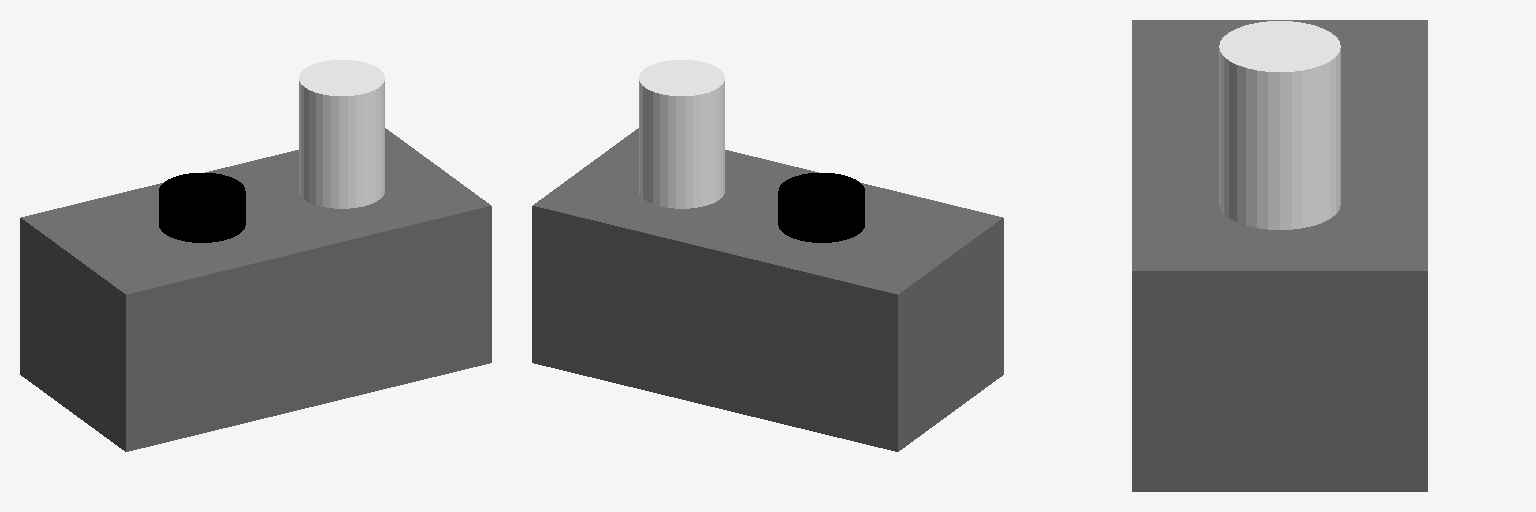
robot.urdf — myroobt:
<?xml version="1.0"?>

<robot name="myroobt">
	<link name="base_link">
		<visual>
			<geometry>
				<box size="0.34 0.17 0.14"/>
			</geometry>
			<material name="grey">
				<color rgba="0.5 0.5 0.5 0.9"/>
			</material>
		</visual>
	</link>
	
	<link name="laser">
		<visual>
			<geometry>
				<cylinder length="0.03" radius="0.035"/>
			</geometry>
			<material name="black">
				<color rgba="0 0 0 1"/>
			</material>
			<origin xyz="0 0 0" rpy="0 0 0 "/>
		</visual>
	</link>
	<joint name="laser_joint" type="fixed">
		<parent link="base_link"/>
		<child link="laser"/>
		<origin rpy="0 0 0" xyz="-0.05 0 0.085"/>
		<axis xyz="0 0 0"/>
	</joint>
	
	<link name="camera">
		<visual>
			<geometry>
				<cylinder length="0.1" radius="0.035"/>
			</geometry>
			<material name="white">
				<color rgba="1 1 1 1"/>
			</material>
			<origin xyz="0 0 0" rpy="0 0 0 "/>
		</visual>
	</link>
	<joint name="camera_joint" type="fixed">
		<parent link="base_link"/>
		<child link="camera"/>
		<origin rpy="0 0 0" xyz="0.08 0 0.12"/>
		<axis xyz="0 0 0"/>
	</joint>
	
</robot>

--- What the picture shows (computed from the rendered views, not written in the file) ---
The picture shows the robot from 3 angles, left to right: view 1: azimuth 30°, elevation 25°; view 2: azimuth 150°, elevation 25°; view 3: azimuth 270°, elevation 25°; orthographic projection.
Model myroobt with 3 links and 2 joints (2 fixed), rooted at base_link, posed every joint at zero.
Links seen in each view (by area): view 1: base_link, camera, laser; view 2: base_link, camera, laser; view 3: base_link, camera.
Link boxes in pixels (box(x1,y1,x2,y2)): base_link: box(20, 128, 491, 451); camera: box(299, 60, 384, 208); laser: box(159, 173, 245, 242); base_link: box(532, 128, 1003, 451); camera: box(639, 60, 724, 208); laser: box(778, 173, 864, 242); base_link: box(1132, 20, 1427, 491); camera: box(1219, 21, 1340, 229).
Size in the robot's own frame: 0.34 by 0.17 by 0.24 metres.
Geometry: primitives only (box / cylinder / sphere), no mesh files.